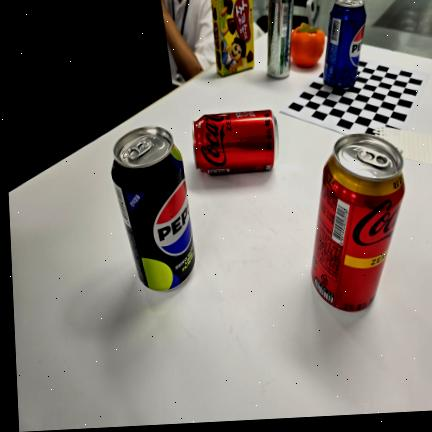can_coke_decaf: (311, 134, 405, 312)
can_coke_zero: (193, 110, 279, 173)
can_pepsi: (323, 0, 366, 89)
can_pepsi_zero: (112, 126, 194, 290)
